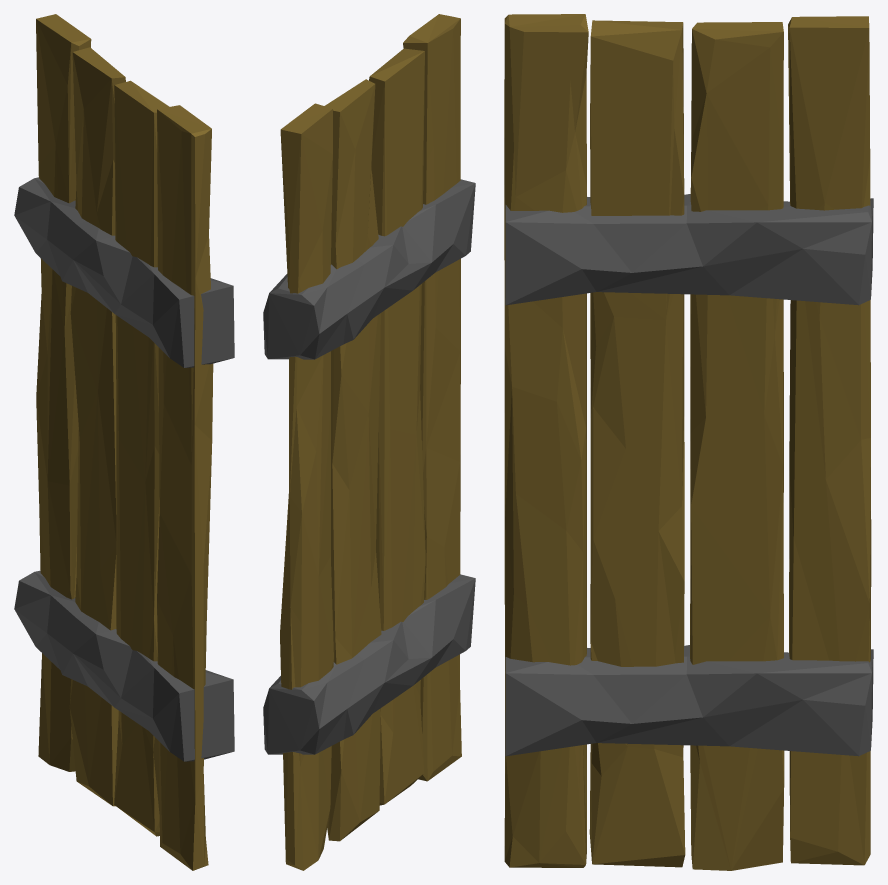
Rendered from Sandstone Door.fbx.
The picture shows the model from 3 angles, left to right: view 1: azimuth 30°, elevation 25°; view 2: azimuth 150°, elevation 25°; view 3: azimuth 270°, elevation 25°; orthographic projection. The views are drawn at different scales.
Parts seen in each view (by area): view 1: Frame01.025, Frame01.026, Frame01.027, Frame01.028, Frame01.029, Frame01.030; view 2: Frame01.028, Frame01.027, Frame01.026, Frame01.025, Frame01.030, Frame01.029; view 3: Frame01.026, Frame01.027, Frame01.025, Frame01.028, Frame01.029, Frame01.030.
Boxes of the visible parts, x1,y1,x2,y2 form: Frame01.025: [157, 105, 213, 870]; Frame01.026: [114, 80, 169, 836]; Frame01.027: [69, 47, 125, 806]; Frame01.028: [36, 14, 91, 771]; Frame01.029: [14, 570, 234, 761]; Frame01.030: [14, 177, 234, 367]; Frame01.028: [280, 103, 333, 870]; Frame01.027: [325, 79, 381, 841]; Frame01.026: [369, 48, 425, 805]; Frame01.025: [403, 14, 461, 781]; Frame01.030: [263, 179, 475, 359]; Frame01.029: [263, 574, 475, 754]; Frame01.026: [589, 20, 685, 867]; Frame01.027: [690, 22, 784, 870]; Frame01.025: [504, 14, 588, 867]; Frame01.028: [788, 16, 871, 865]; Frame01.029: [505, 645, 873, 756]; Frame01.030: [505, 194, 873, 305].
Bounding box in the file's own units: 51.28 × 568 × 225.
